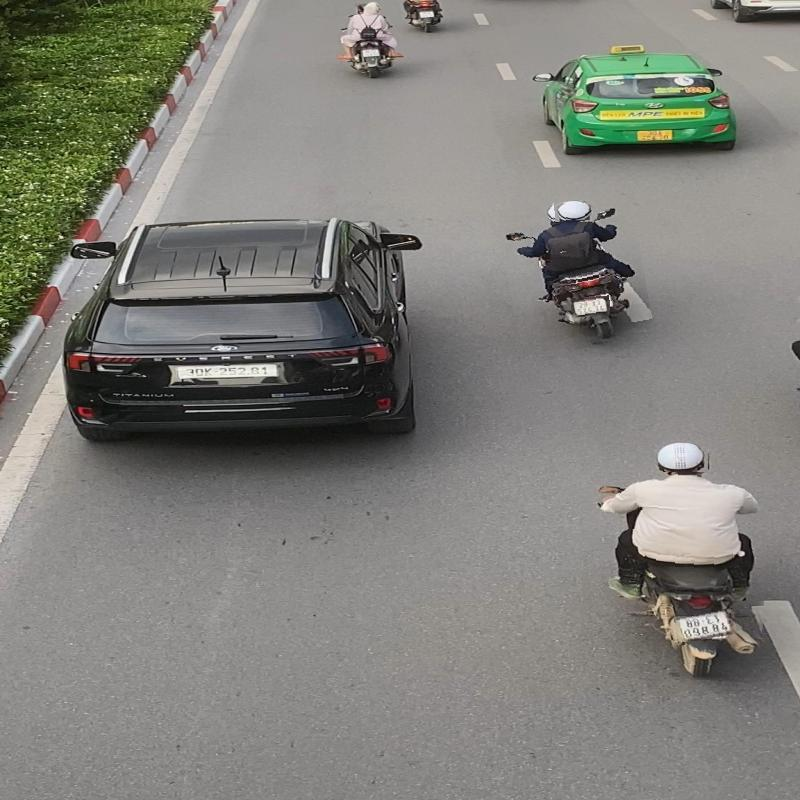helmet: (654, 440, 708, 472), (555, 198, 595, 222)
licenseplate: (676, 611, 736, 641), (570, 296, 610, 317)
motorcyclist: (582, 436, 770, 681), (503, 193, 648, 352)
